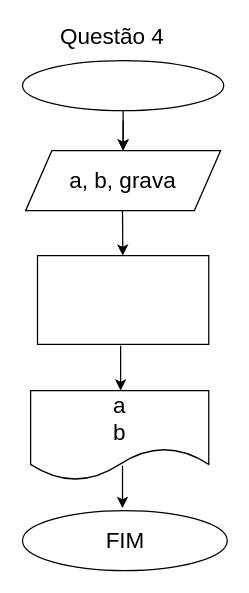
The diagram is 249 pixels wide and 593 high, and some of its shapes have lost their labels. The centre of each missing label's shape, as x and y in pixels:
"grava = a a = b b = grava" belongs at [122,299].
"INICIO" belongs at [122,85].
